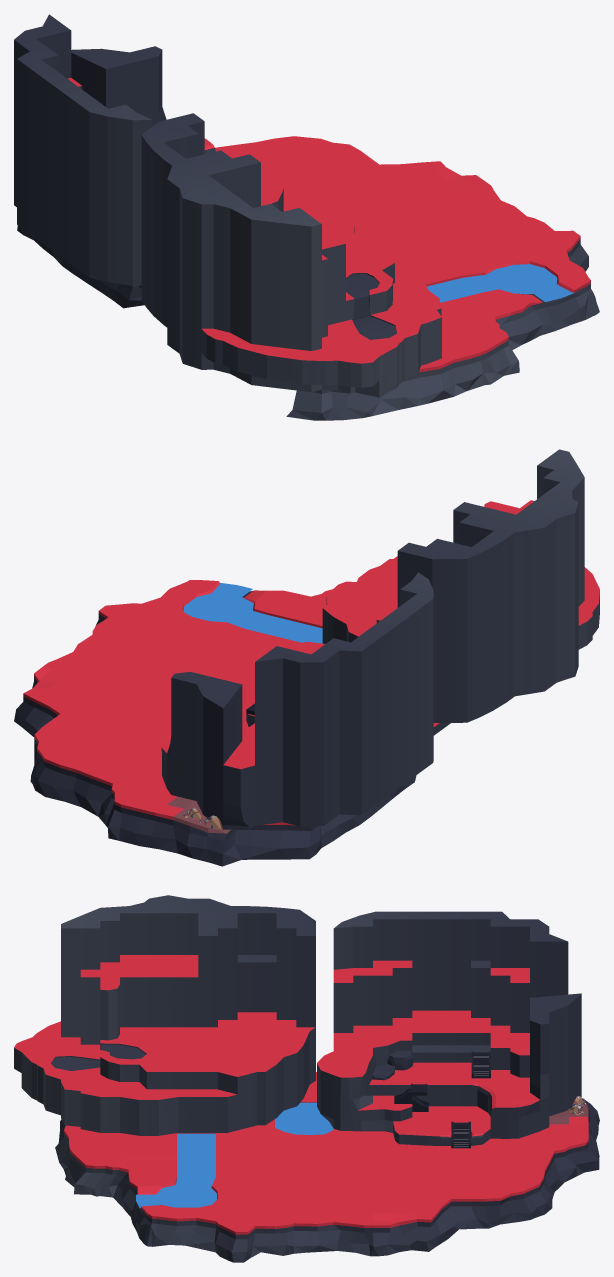
The model's file is Mountain_SHHOverworld.fbx.
The picture shows the model from 3 angles, top to bottom: view 1: azimuth 30°, elevation 25°; view 2: azimuth 150°, elevation 25°; view 3: azimuth 270°, elevation 25°; orthographic projection. The views are drawn at different scales.
Parts seen in each view (by area): view 1: Plane.030, Plane.031, Plane.032, Plane.033; view 2: Plane.032, Plane.031, Plane.030, Plane.033; view 3: Plane.030, Plane.032, Plane.031, Plane.033, Plane.034.
Part boxes in pixels (left/top/right/bottom): Plane.030: left=141, top=113, right=441, bottom=397; Plane.031: left=17, top=136, right=599, bottom=420; Plane.032: left=14, top=14, right=283, bottom=285; Plane.033: left=427, top=264, right=574, bottom=302; Plane.032: left=161, top=572, right=433, bottom=829; Plane.031: left=14, top=580, right=450, bottom=866; Plane.030: left=322, top=449, right=599, bottom=722; Plane.033: left=183, top=583, right=322, bottom=643; Plane.030: left=14, top=895, right=315, bottom=1135; Plane.032: left=317, top=911, right=581, bottom=1145; Plane.031: left=55, top=1072, right=599, bottom=1262; Plane.033: left=136, top=1133, right=216, bottom=1207; Plane.034: left=275, top=1102, right=333, bottom=1134.
Size of the model in its own units: 21454 by 9424 by 28068.
